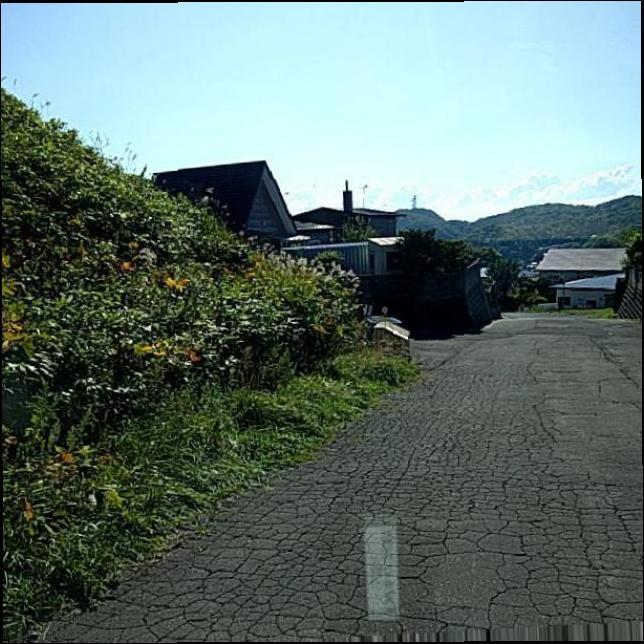Retak Buaya: (31, 379, 644, 644)
